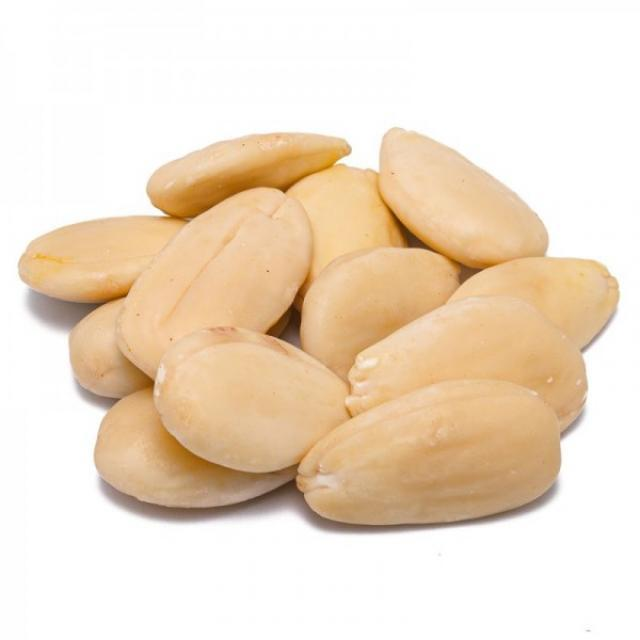Frutta secca: (29, 115, 622, 545)
